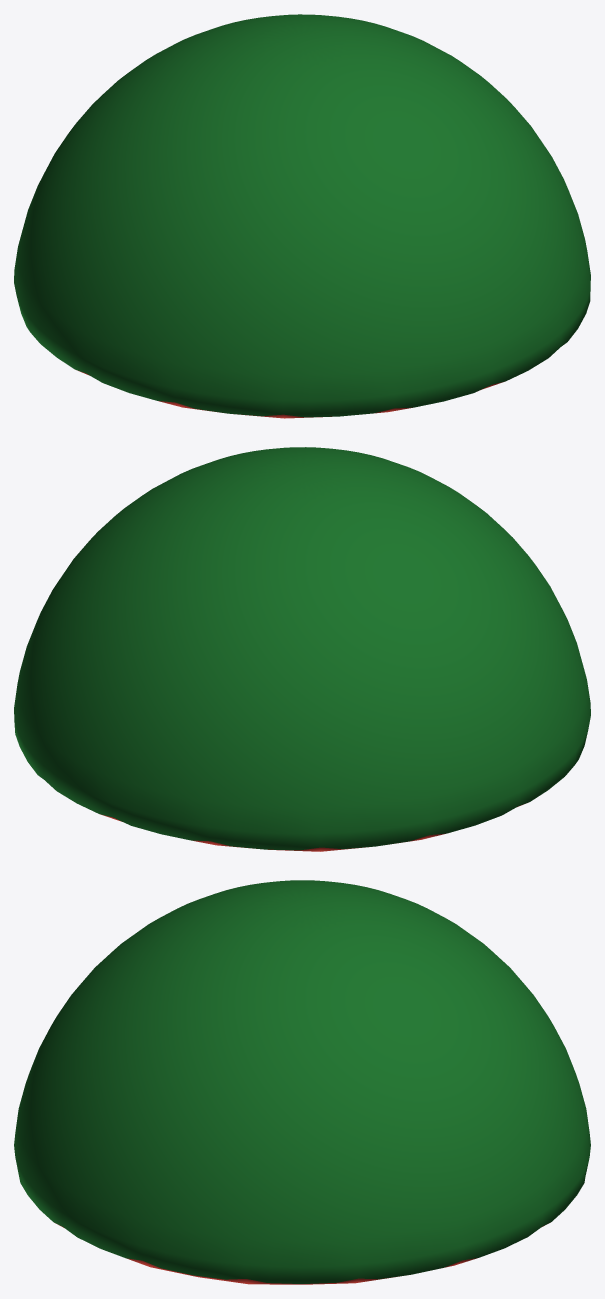
Rendered from Watermelon_cut.fbx.
3 views of the same model, one above another, from view 1: azimuth 30°, elevation 25°; view 2: azimuth 150°, elevation 25°; view 3: azimuth 270°, elevation 25° (orthographic).
Parts seen in each view (by area): view 1: Watermelon; view 2: Watermelon; view 3: Watermelon.
Part boxes in pixels (box(x1,y1,x2,y2)): Watermelon: box(14, 14, 590, 418); Watermelon: box(14, 447, 590, 851); Watermelon: box(14, 880, 590, 1284).
Bounding box in the file's own units: 19.6 × 9.98 × 19.59.
